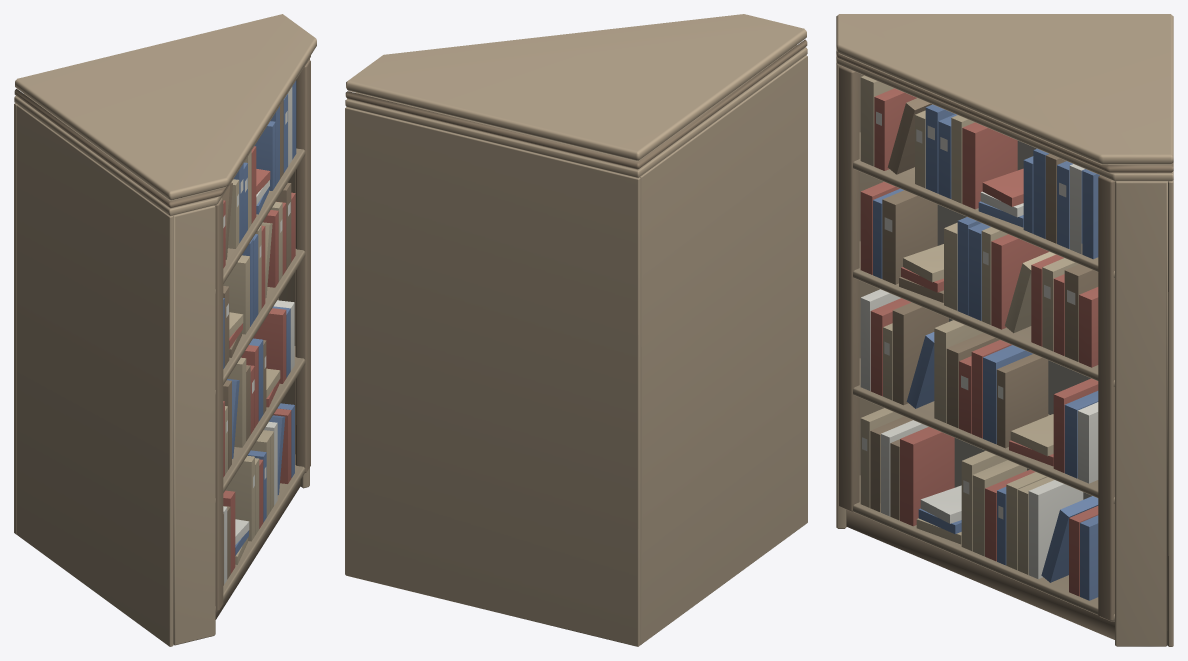
File: corner_shelf.glb
The picture shows the model from 3 angles, left to right: view 1: azimuth 30°, elevation 25°; view 2: azimuth 150°, elevation 25°; view 3: azimuth 270°, elevation 25°; orthographic projection. The views are drawn at different scales.
Parts seen in each view (by area): view 1: babel_corner_shelf; view 2: babel_corner_shelf; view 3: babel_corner_shelf.
Part boxes in pixels (<box>): babel_corner_shelf: <box>14,14,316,646</box>; babel_corner_shelf: <box>345,14,807,646</box>; babel_corner_shelf: <box>836,14,1173,646</box>.
Bounding box in the file's own units: 1.15 × 1.85 × 1.15.
